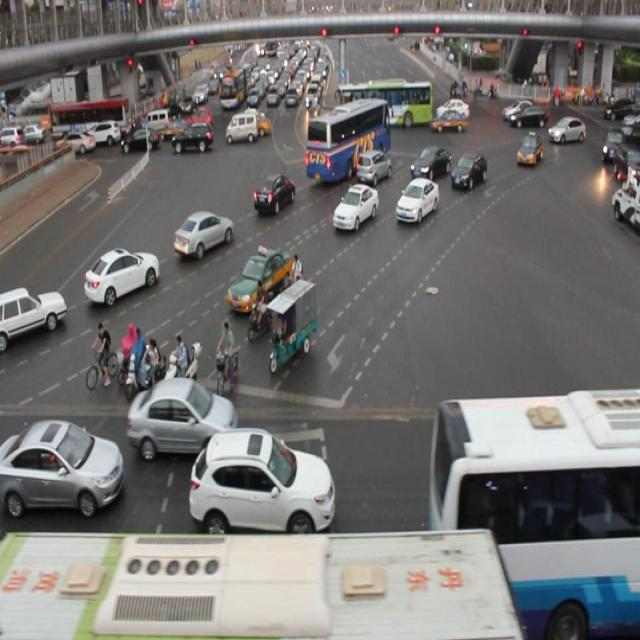car: (187, 429, 335, 533), (453, 425, 568, 539), (1, 420, 125, 514), (129, 376, 238, 460), (82, 242, 158, 306), (1, 281, 69, 351), (227, 248, 294, 313), (173, 208, 234, 258), (331, 184, 379, 232), (396, 178, 440, 226), (252, 172, 295, 213), (450, 152, 487, 191), (409, 146, 451, 180), (355, 149, 393, 185), (548, 114, 584, 146), (515, 132, 542, 168)
van: (0, 522, 522, 640), (434, 377, 640, 640), (306, 99, 392, 182)
